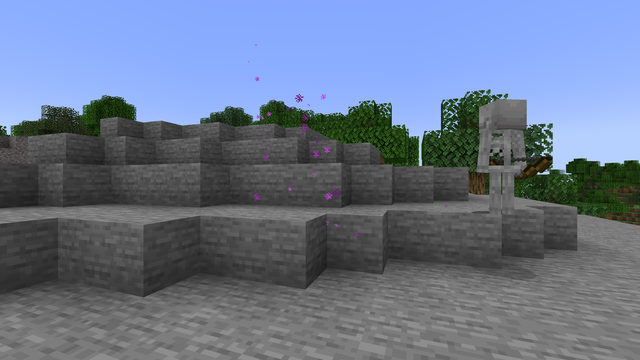squelettes: (478, 97, 528, 216)
